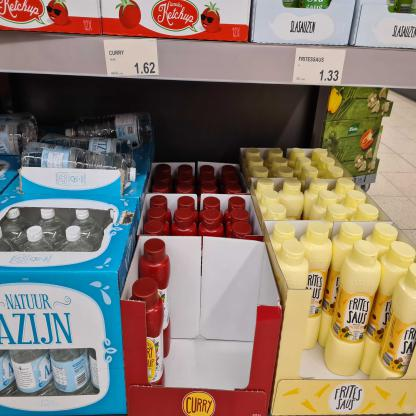prtg: (105, 39, 159, 77), (294, 50, 347, 86)
